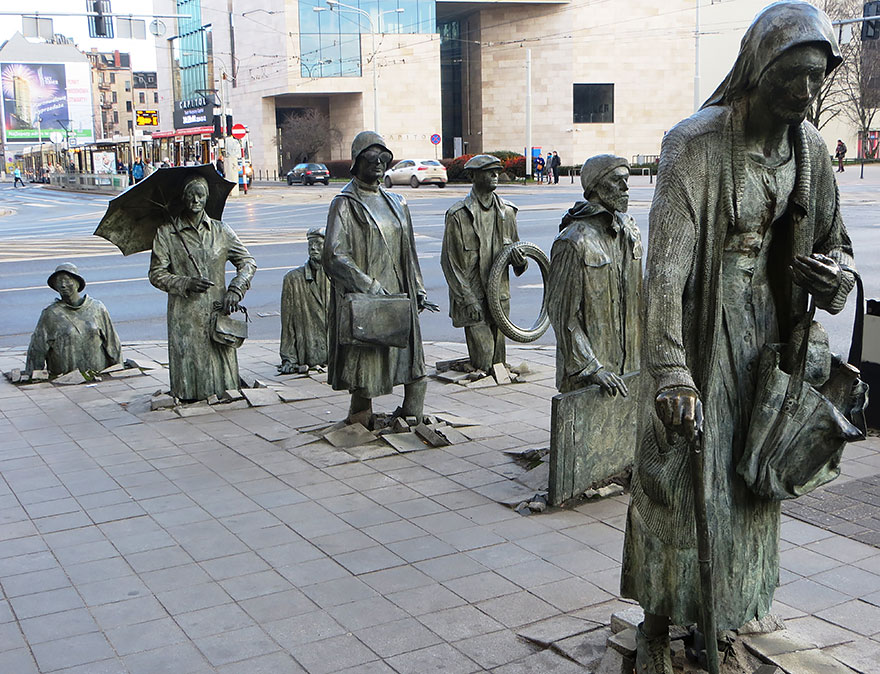person-like: (618, 2, 870, 671), (320, 129, 439, 430), (143, 169, 261, 405), (538, 148, 645, 402), (439, 150, 530, 372), (22, 258, 131, 389), (275, 227, 344, 383)
